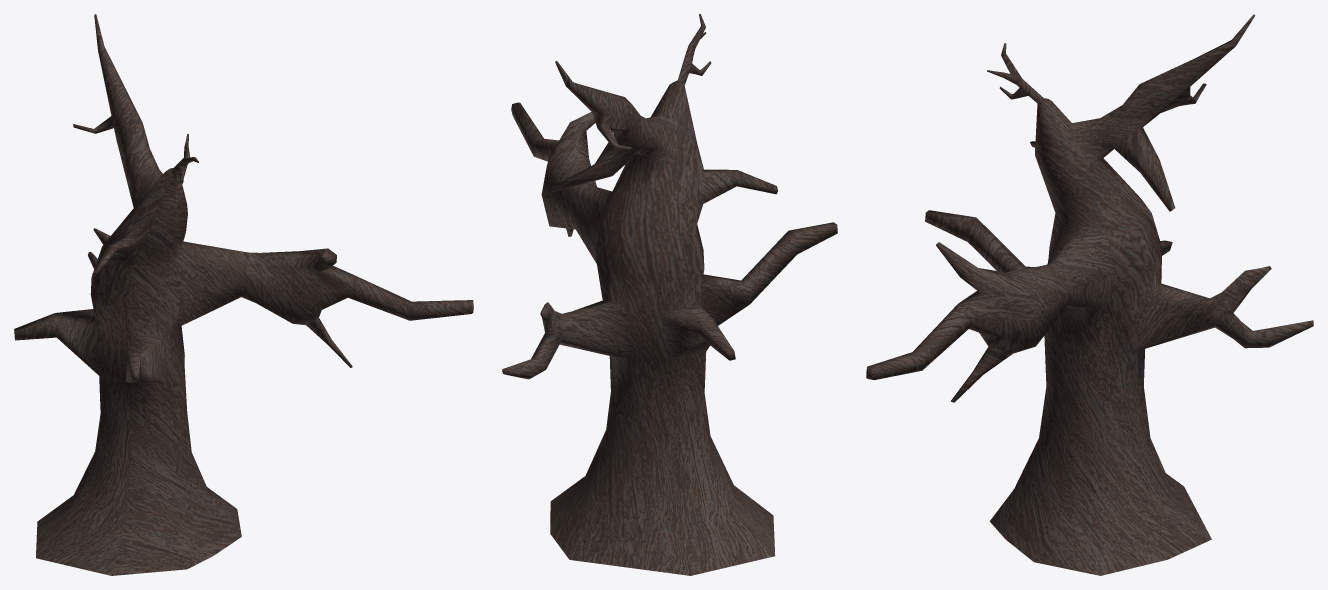
File: Arbol_seco_2.fbx
3 renders of one model, left to right at view 1: azimuth 30°, elevation 25°; view 2: azimuth 150°, elevation 25°; view 3: azimuth 270°, elevation 25°, orthographic. The views are drawn at different scales.
Visible parts, largest first — view 1: Arbol_2; view 2: Arbol_2; view 3: Arbol_2.
Boxes of the visible parts, bbox=[...] form: Arbol_2: bbox=[14, 14, 473, 575]; Arbol_2: bbox=[502, 14, 837, 575]; Arbol_2: bbox=[866, 14, 1313, 575].
Bounding box in the file's own units: 1610 × 2112 × 1644.
